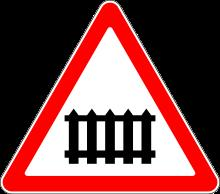Barrier Ahead: (12, 10, 209, 181)
